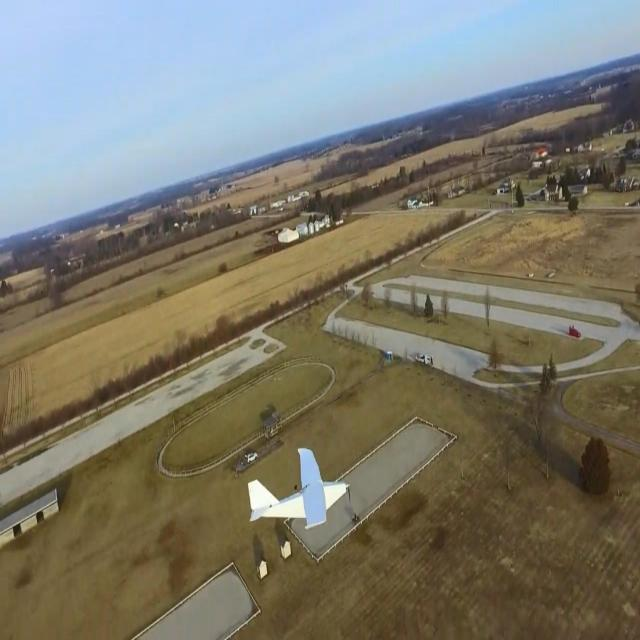iha: (238, 474, 433, 527)
